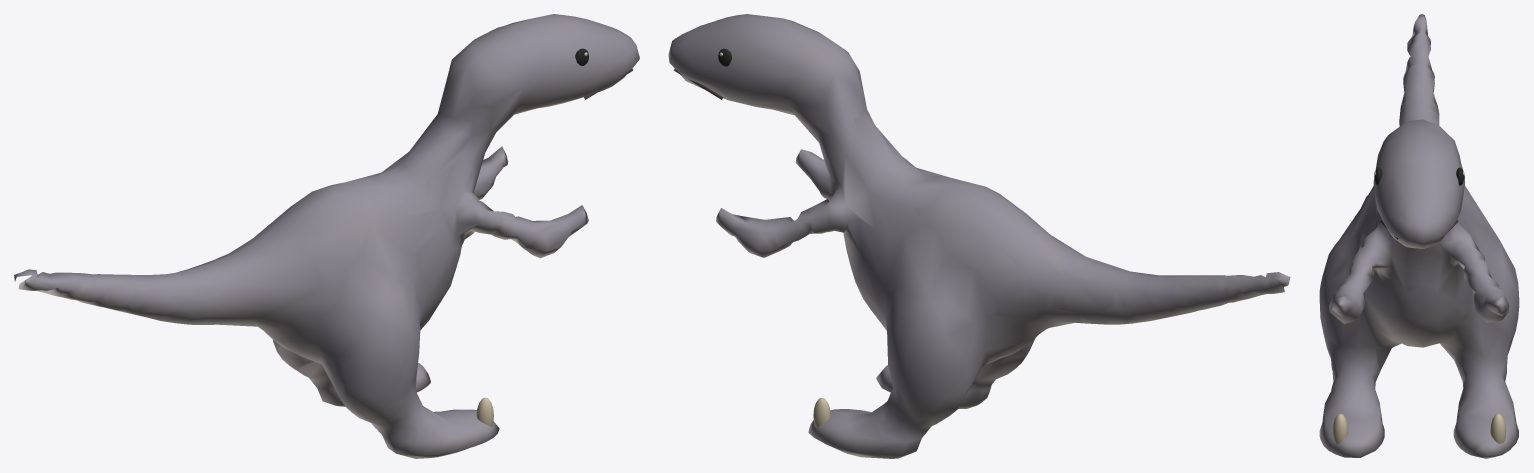
Rendered from velociraptor.glb.
3 renders of one model, left to right at view 1: azimuth 30°, elevation 25°; view 2: azimuth 150°, elevation 25°; view 3: azimuth 270°, elevation 25°, orthographic.
Visible parts, largest first — view 1: clay-toy; view 2: clay-toy; view 3: clay-toy.
Part boxes in pixels (<box>): clay-toy: <box>14,14,639,458</box>; clay-toy: <box>668,14,1290,458</box>; clay-toy: <box>1319,14,1519,458</box>.
Bounding box in the file's own units: 3.58 × 2.08 × 1.01.
